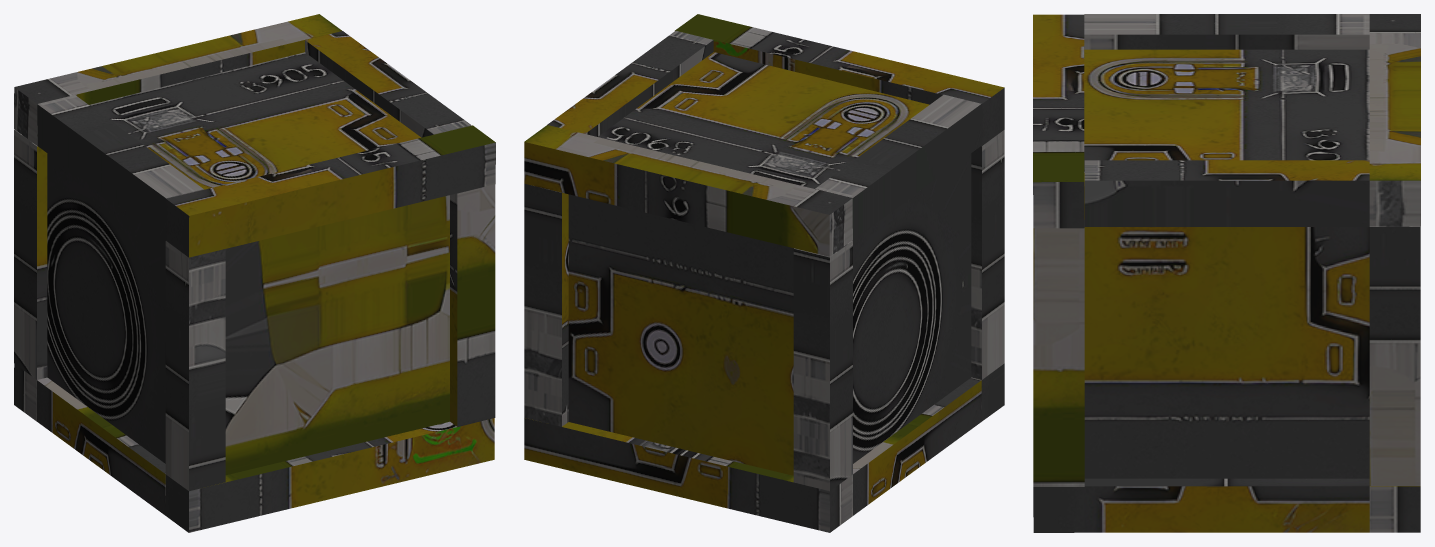
File: crate_wood.obj
3 views of the same model, side by side, from view 1: azimuth 30°, elevation 25°; view 2: azimuth 150°, elevation 25°; view 3: azimuth 270°, elevation 25° (orthographic). The views are drawn at different scales.
Visible parts, largest first — view 1: polySurface29_0; view 2: polySurface29_0; view 3: polySurface29_0.
Part boxes in pixels (x1,y1,x2,y2): polySurface29_0: (14, 14, 495, 532); polySurface29_0: (524, 14, 1004, 532); polySurface29_0: (1033, 14, 1420, 532).
Size of the model in its own units: 129 by 128 by 128.
